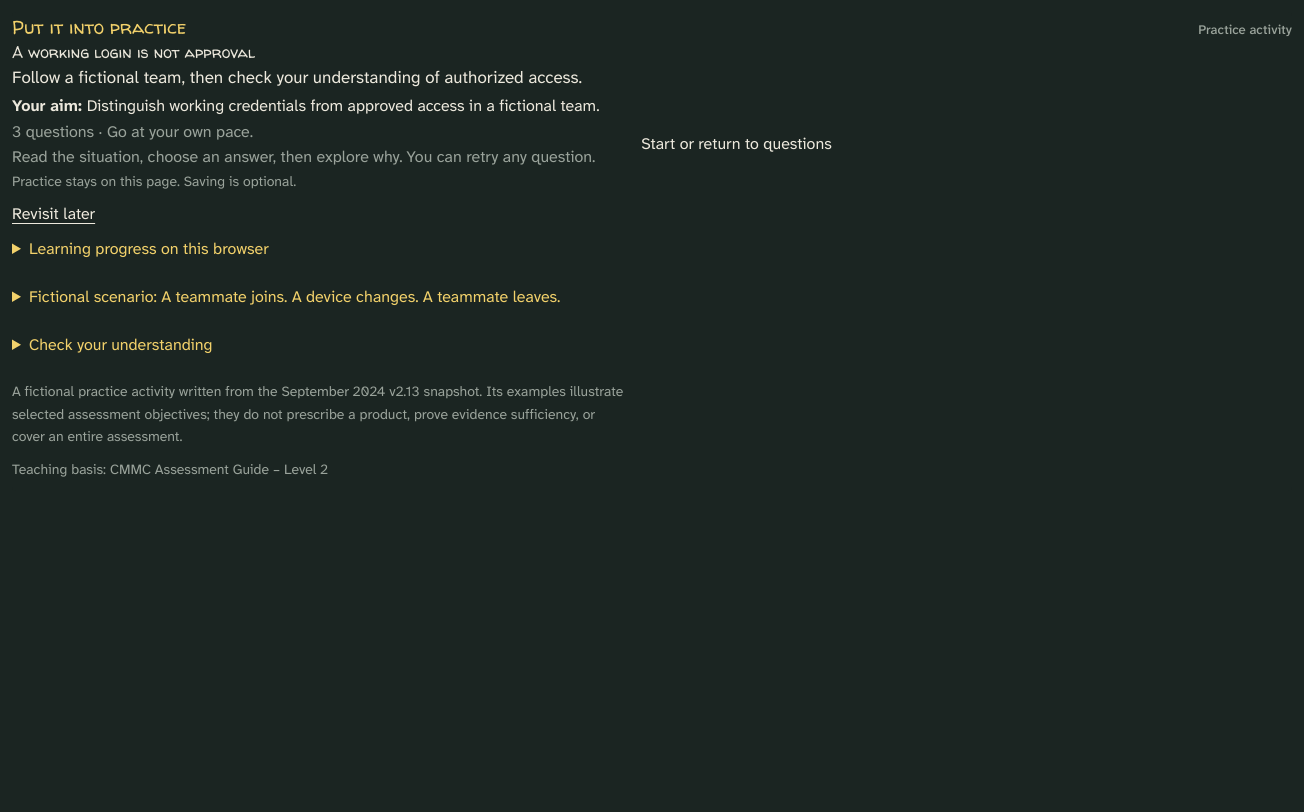
LearningPractice › explains a wrong answer and allows another attempt without skipping ahead
The image size is (1304, 812).
Click the heading "Check your understanding": point(121, 345) [29,334,212,355]
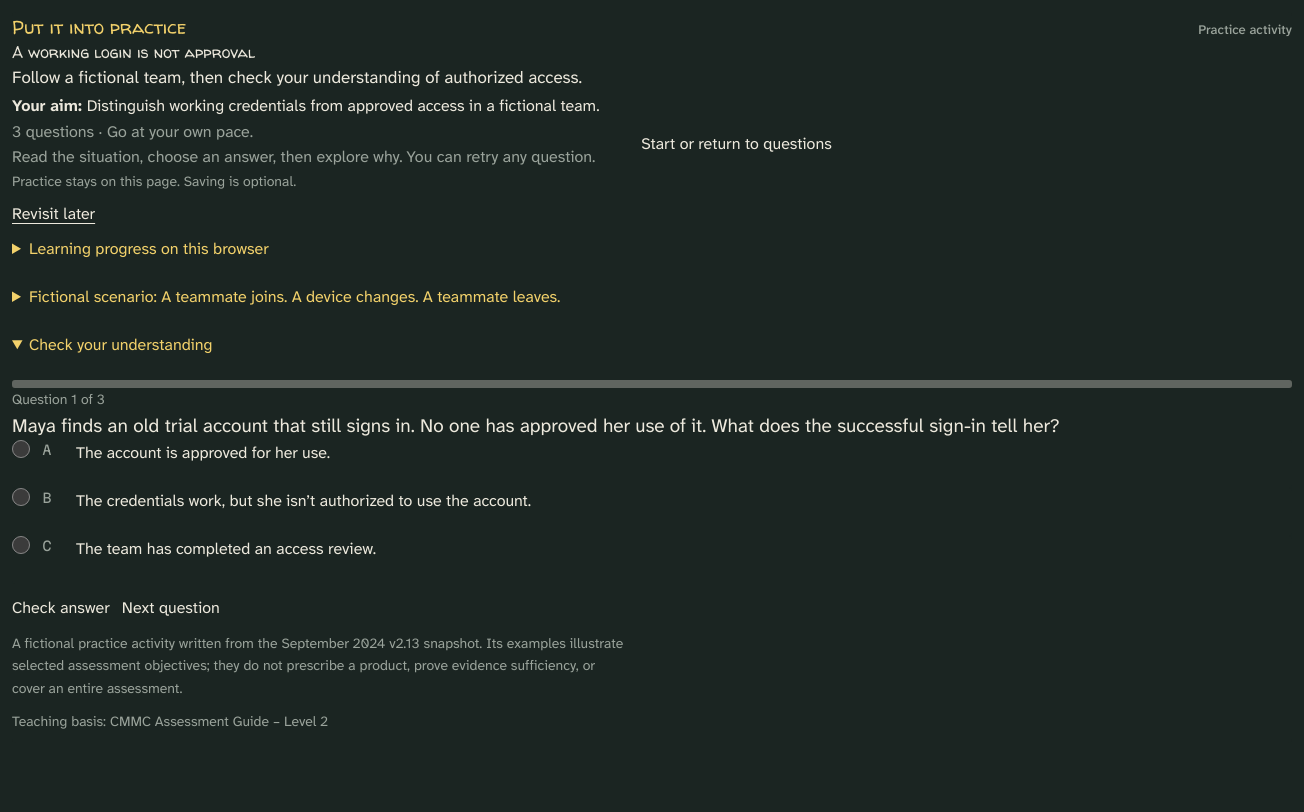
Click the radio button labelled "The account is approved for her use.": point(21, 449) [12,440,30,458]
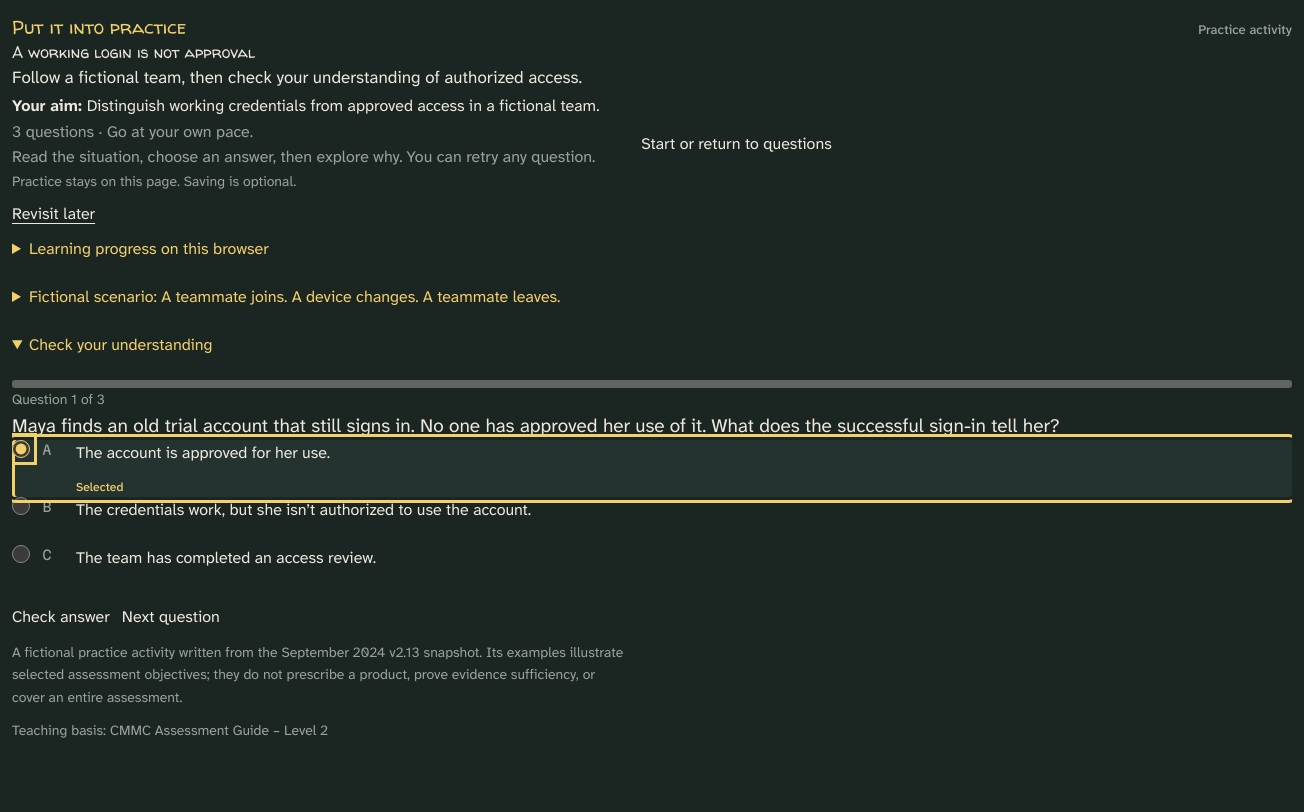
Click the button "Check answer": point(61, 617) [12,593,110,641]
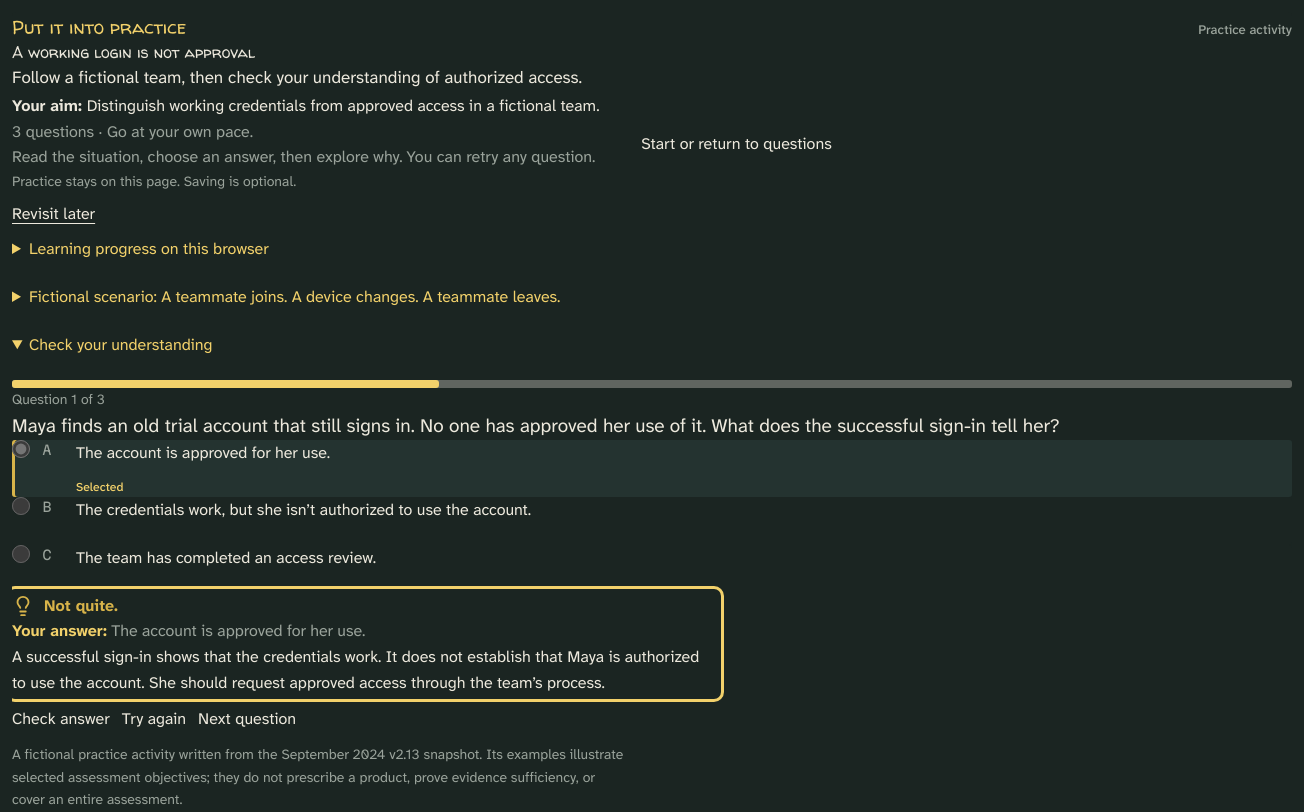
Check: the message named "Answer feedback" shows "Not quite.", box [44,595,118,616]
Check: the message named "Answer feedback" shows "A successful sign-in shows that the credentials work. It does not establish that Maya is authorized to use the account. She should request approved access throu", box [12,646,699,693]
Click the button "Try again": point(154, 719) [122,695,186,743]
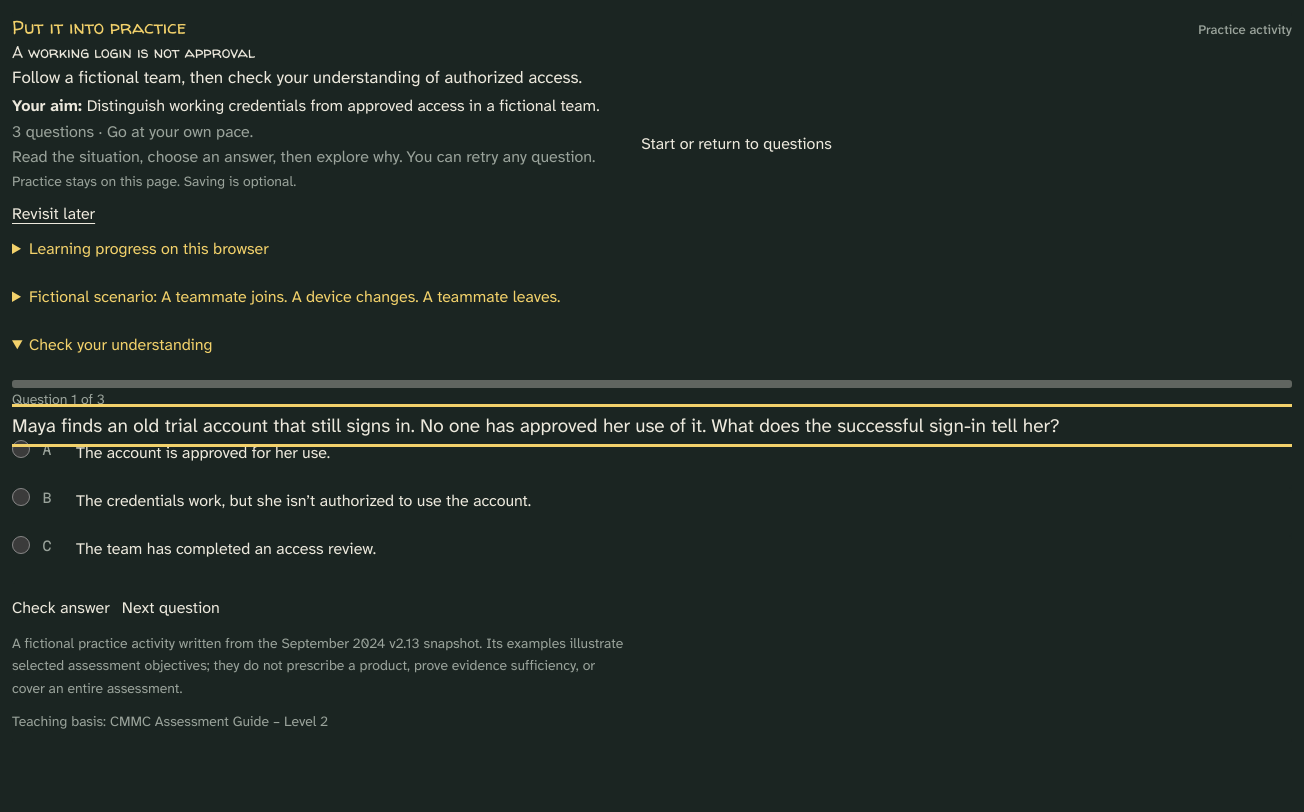
Check: the button "Check answer" is disabled, box [12,584,110,632]
Check: the button "Next question" is disabled, box [122,584,220,632]
